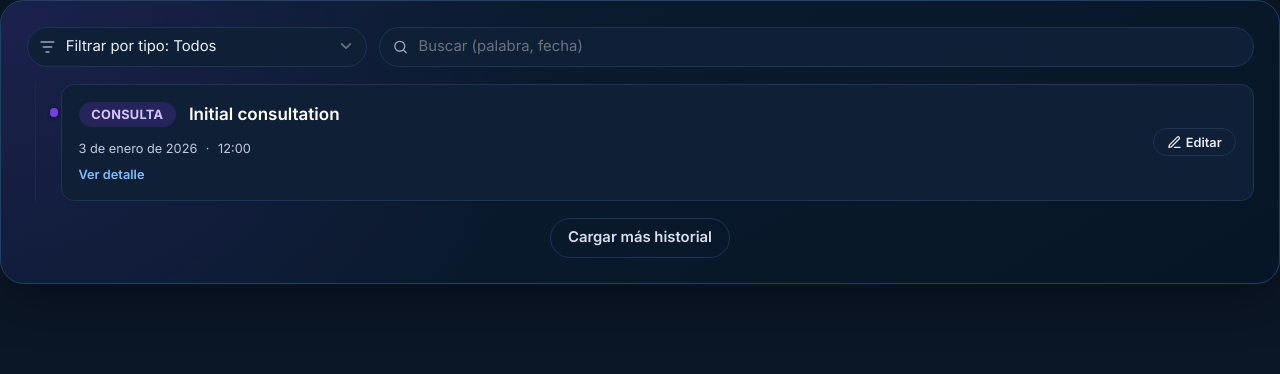
it: patient history interaction and request ownership › keeps existing history on an invalid success and allows a verified retry
Click the button "Cargar más historial".
click(640, 238)  # box [550,218,730,258]
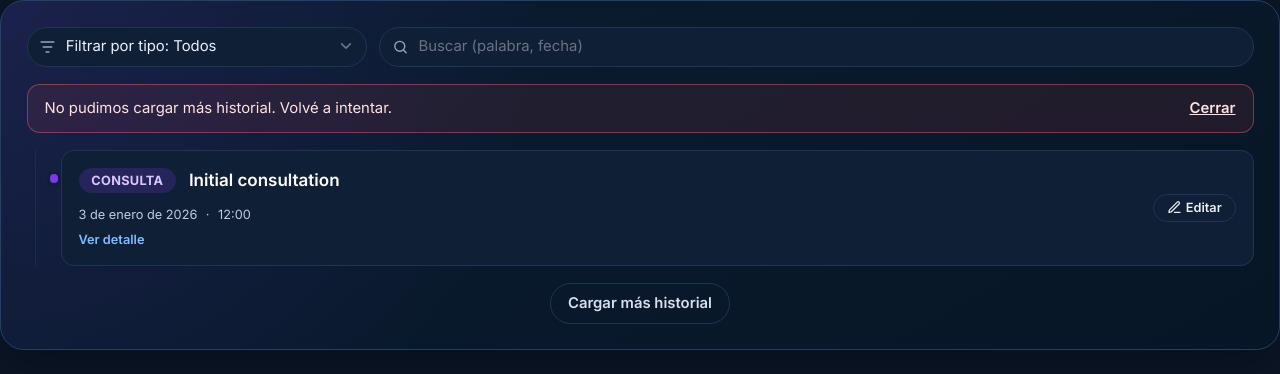
Expected: the text "Initial consultation" is shown, [189,168,340,193]
Result: the message shows "No pudimos cargar más historial" at [44,98,392,116]
Click the button "Cargar más historial".
click(640, 303)  # box [550,283,730,324]
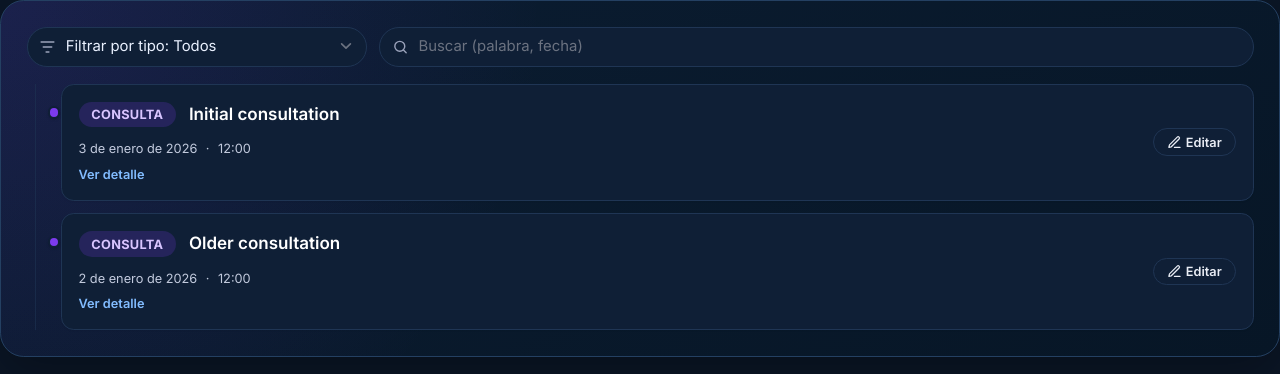
Result: the text "Older consultation" is shown at [189,231,340,257]
Result: the message "No pudimos cargar más historial. Volvé a intentar. Cerrar" is gone
Result: the text "cargar más historial" is gone
